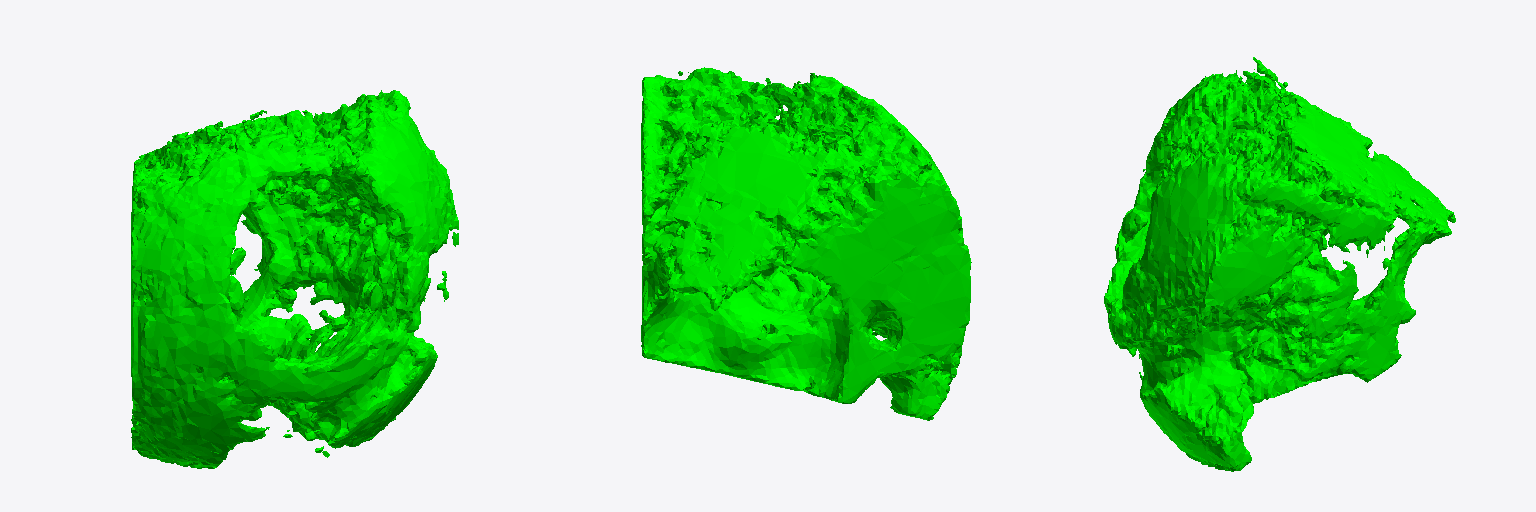
Rendered from B939XXXX-1_base_23.obj.
The picture shows the model from 3 angles: view 1: azimuth 30°, elevation 25°; view 2: azimuth 150°, elevation 25°; view 3: azimuth 270°, elevation 25°; orthographic projection.
Visible parts, largest first — view 1: 23_base; view 2: 23_base; view 3: 23_base.
Boxes of the visible parts, x1,y1,x2,y2 form: 23_base: [131, 90, 458, 468]; 23_base: [641, 67, 971, 420]; 23_base: [1104, 57, 1455, 471].
Bounding box in the file's own units: 219 × 217 × 204.